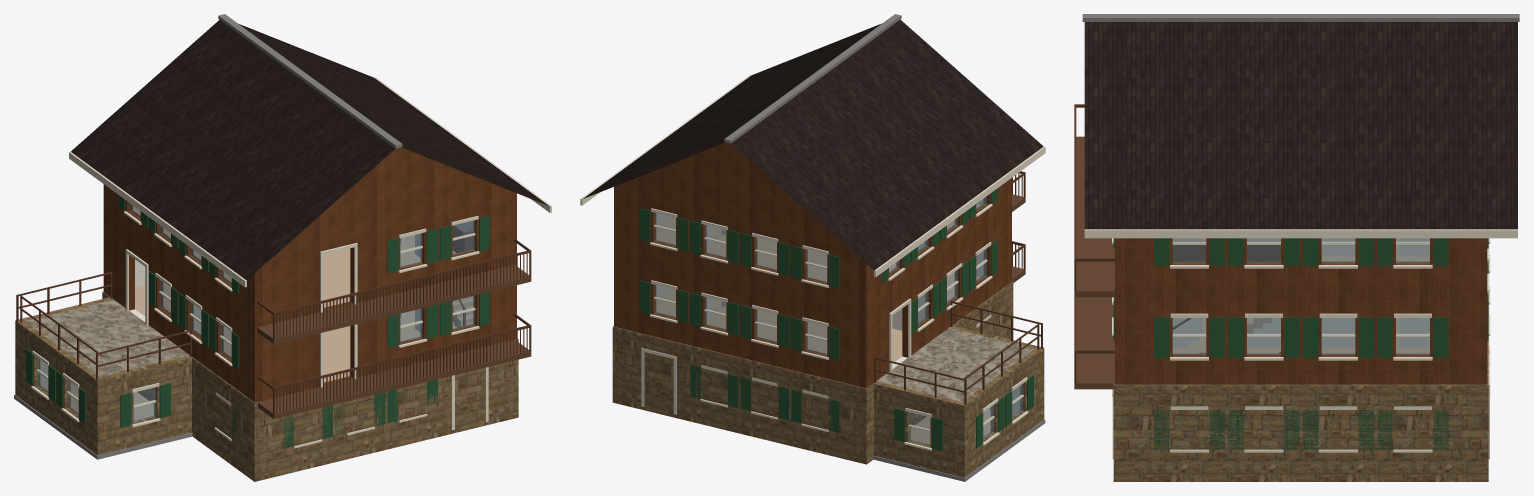
The model's file is rw-chalet.towns-v1.lod0.glb.
3 views of the same model, side by side, from view 1: azimuth 30°, elevation 25°; view 2: azimuth 150°, elevation 25°; view 3: azimuth 270°, elevation 25° (orthographic). The views are drawn at different scales.
Visible parts, largest first — view 1: rw-chalet; view 2: rw-chalet; view 3: rw-chalet.
Part boxes in pixels (x1,y1,x2,y2): rw-chalet: [14, 14, 551, 481]; rw-chalet: [580, 14, 1045, 481]; rw-chalet: [1074, 14, 1519, 481].
Size of the model in its own units: 16.03 by 12.6 by 13.15.
Materials: 8 (4 with a texture image).
